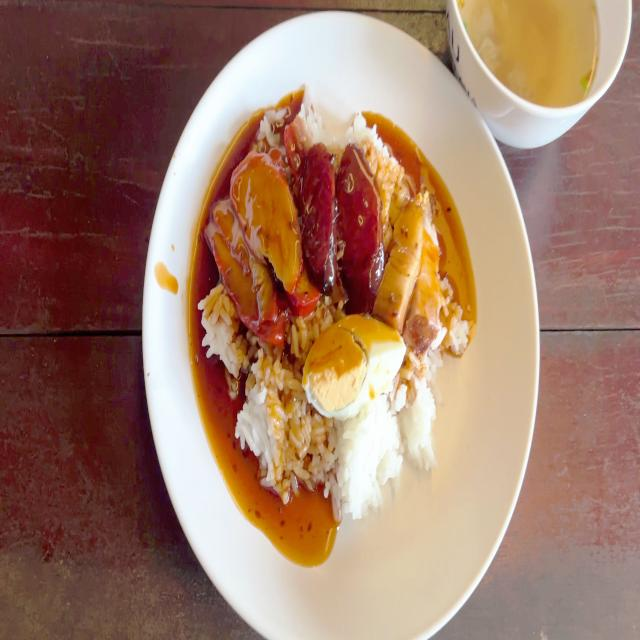boiled_egg: (306, 320, 405, 413)
chainese_sausage: (302, 144, 388, 304), (338, 147, 382, 284), (305, 150, 335, 288)
crispy_pork: (385, 190, 439, 339), (378, 195, 427, 324), (414, 198, 439, 350)
red_pork: (208, 152, 300, 337), (213, 210, 281, 340), (233, 160, 301, 283), (285, 116, 310, 189)
red_pork_and_crispy_pork: (202, 92, 470, 512)
rice: (236, 306, 344, 501), (334, 411, 404, 515), (338, 112, 402, 220), (236, 374, 295, 478), (198, 280, 251, 378), (402, 364, 442, 465), (338, 112, 402, 164), (299, 97, 345, 154), (258, 101, 296, 149), (418, 198, 441, 260), (201, 285, 230, 325), (477, 34, 504, 70), (352, 111, 368, 136), (298, 100, 310, 126), (204, 340, 218, 359), (274, 107, 288, 123), (239, 432, 246, 450)
